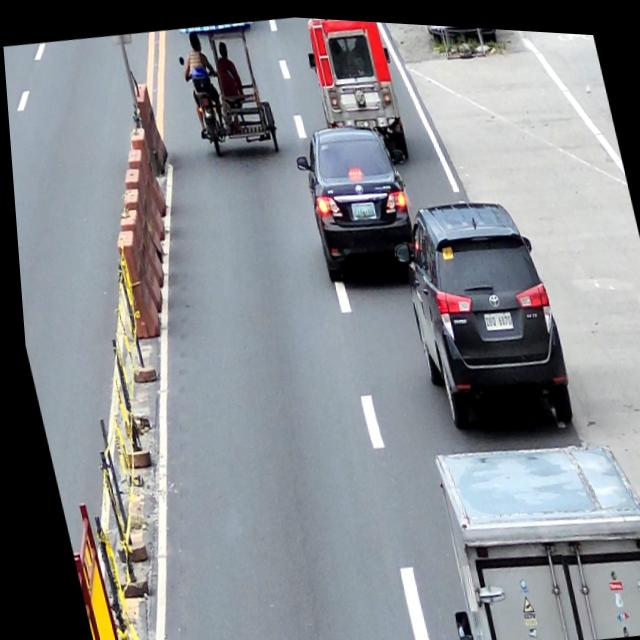Car: (381, 181, 577, 442), (287, 113, 422, 285), (300, 14, 412, 167)
License-Plate: (479, 304, 510, 327), (348, 196, 374, 216)
Tricycle: (177, 38, 280, 159)
Truck: (413, 415, 640, 640)
